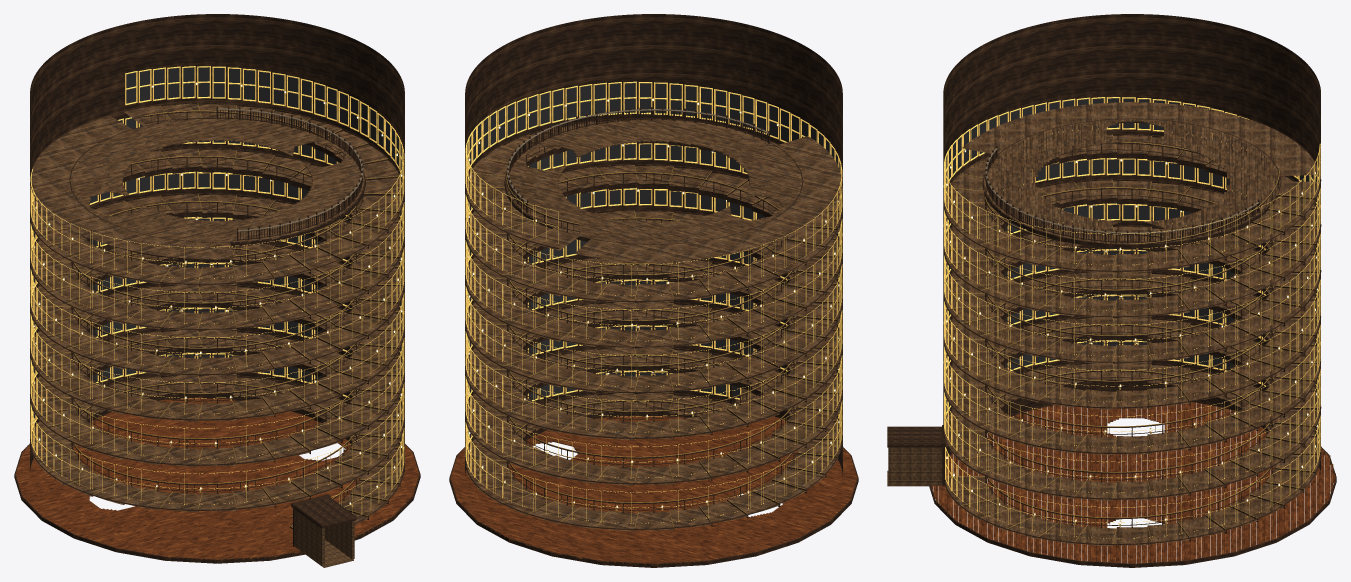
The model's file is sp_f2_hall.glb.
3 renders of one model, left to right at view 1: azimuth 30°, elevation 25°; view 2: azimuth 150°, elevation 25°; view 3: azimuth 270°, elevation 25°, orthographic.
Visible parts, largest first — view 1: spire; view 2: spire; view 3: spire.
Boxes of the visible parts, <box> form: spire: <box>14,14,420,567</box>; spire: <box>449,14,858,567</box>; spire: <box>887,14,1336,567</box>.
Bounding box in the file's own units: 40.07 × 42.05 × 44.04.
9 materials, 7 textured.
